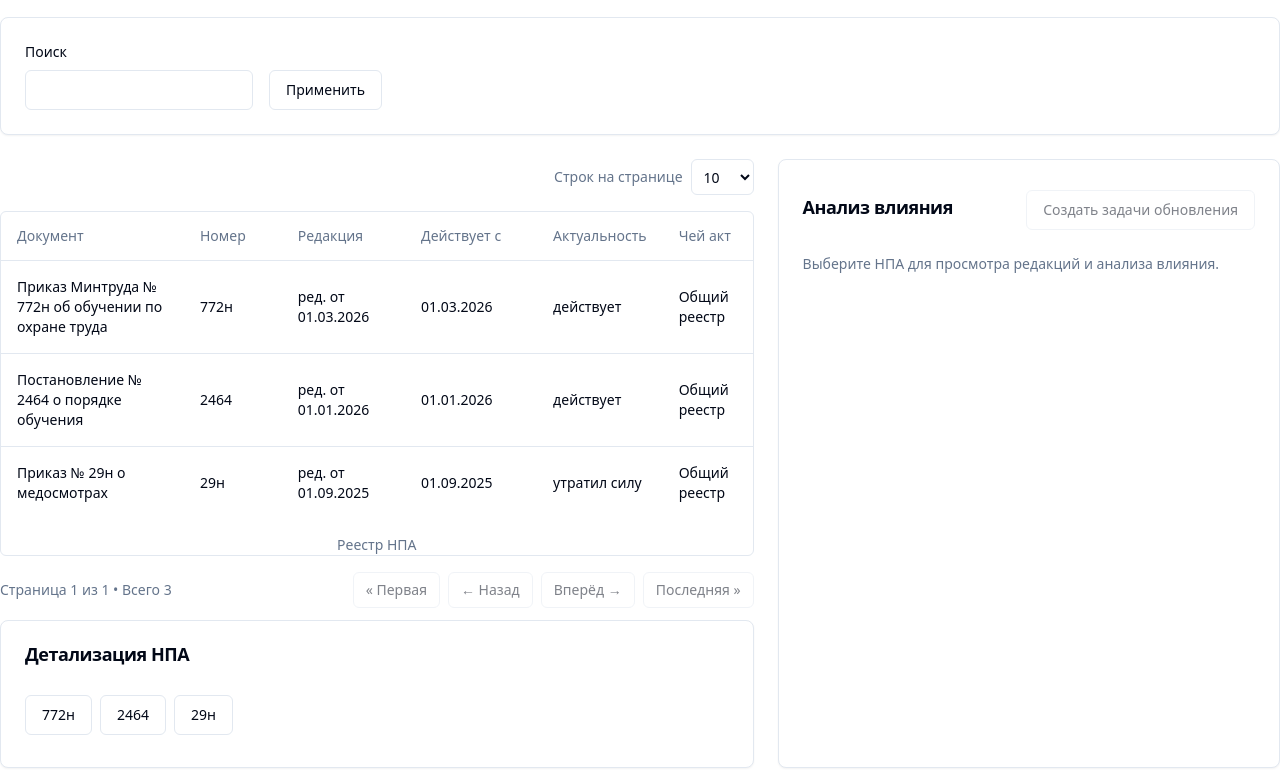
Test case: NpaPage › экран в UX-бюджете и со списком, и с открытым анализом влияния (BIZ-60)
Expected: the text "Приказ Минтруда № 772н об обучении по охране труда" is shown, [1,260,184,353]
Expected: the text "Постановление № 2464 о порядке обучения" is shown, [1,353,184,446]
Click the button "772н". click: (58, 714)
box: [25,694,92,734]
(page scrolled)
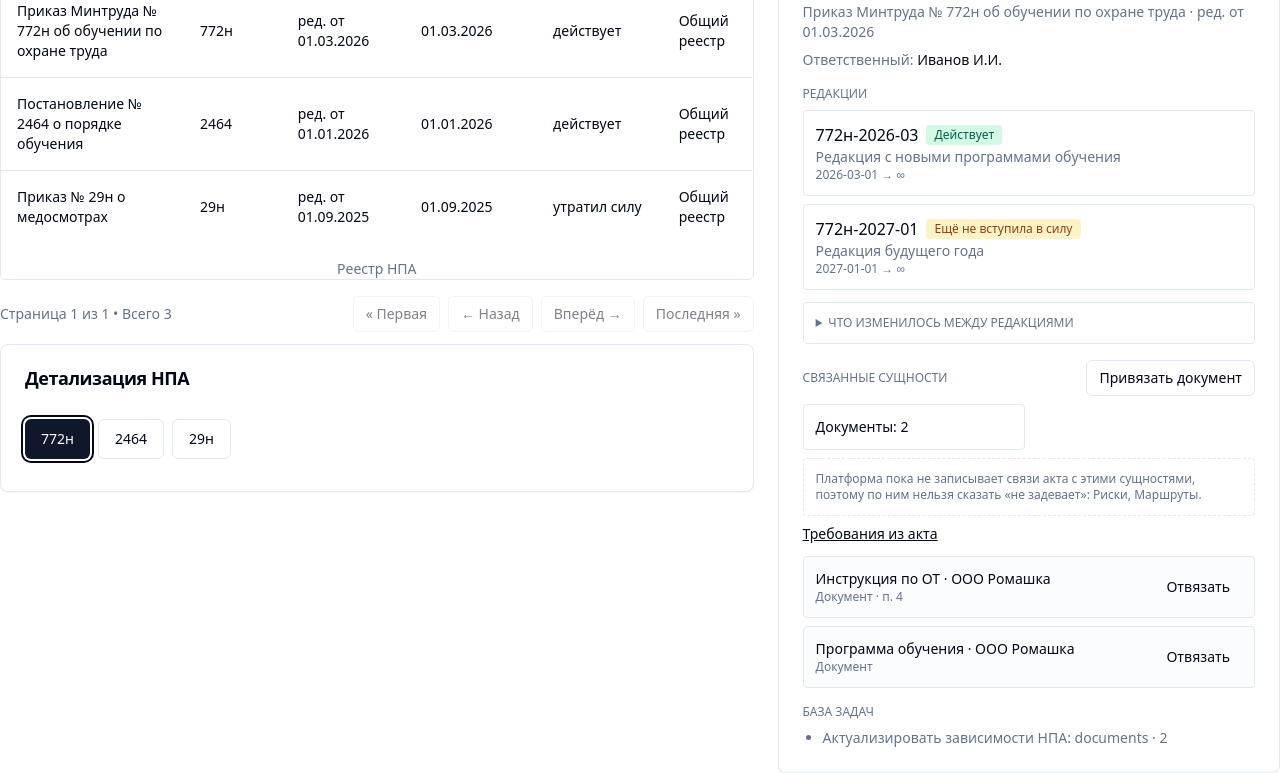
Expected: the text with test id "npa-revision-code" reads "772н-2026-03", [816,124,918,146]
Expected: the text "Инструкция по ОТ · ООО Ромашка" is shown, [816,569,1051,589]
Expected: the text "Документ · п. 4" is shown, [816,588,903,605]
